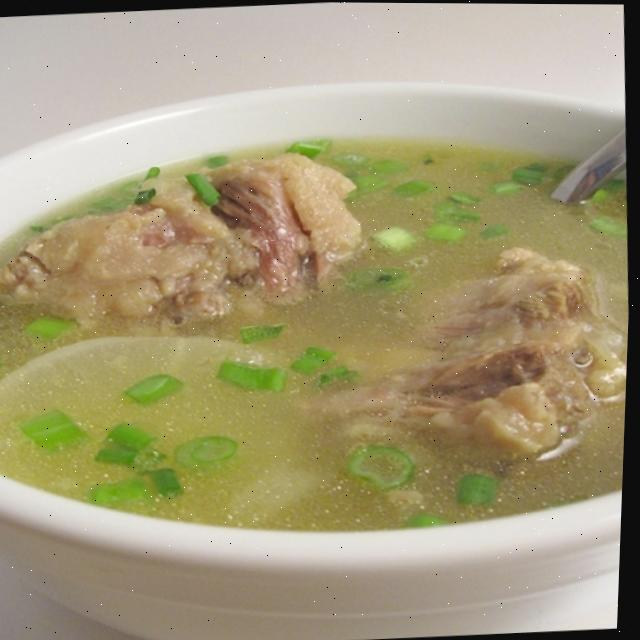汤锅炖物: (0, 39, 639, 636)
